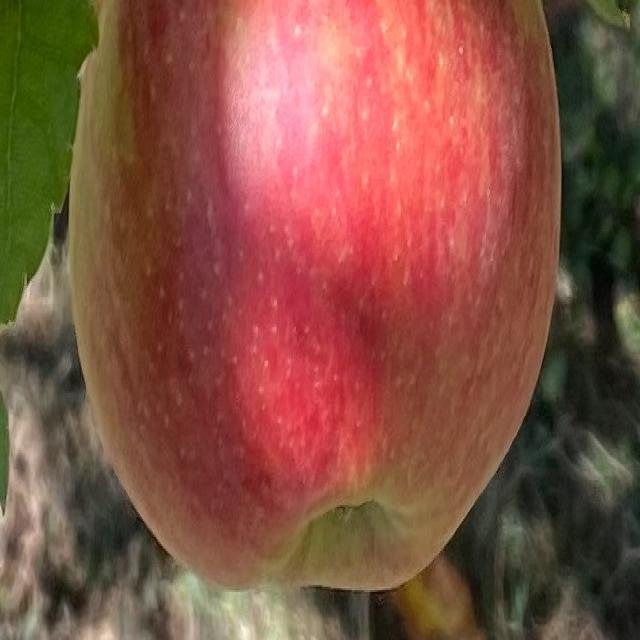Apples: (68, 0, 560, 592)
